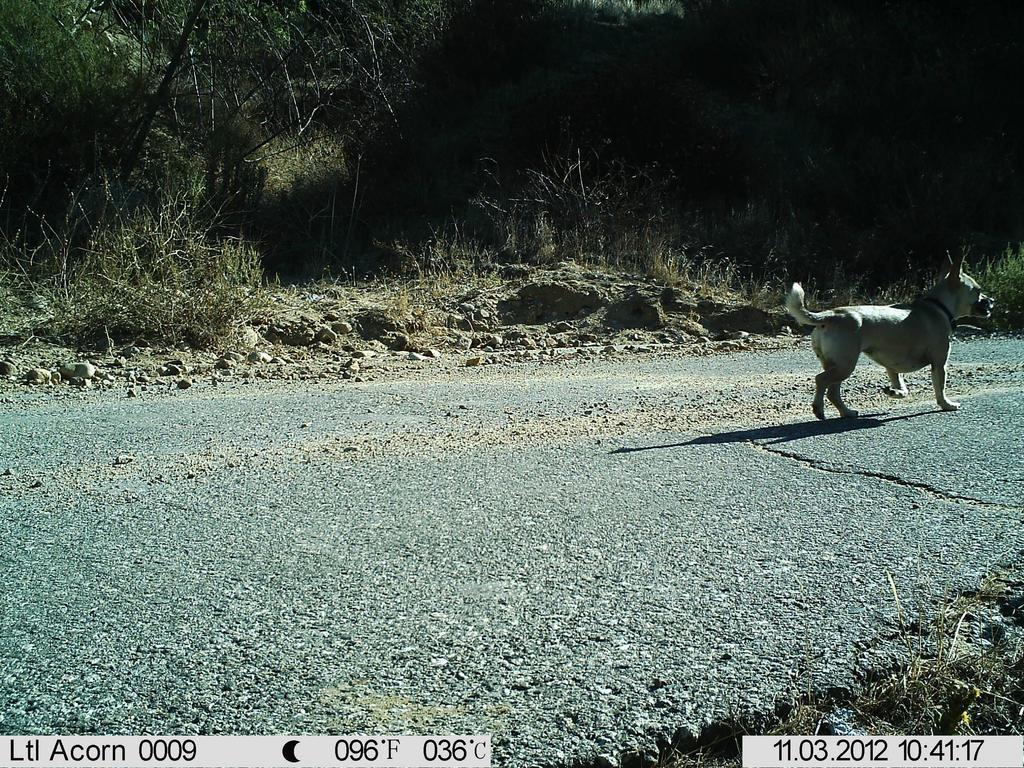dog: (785, 253, 996, 423)
